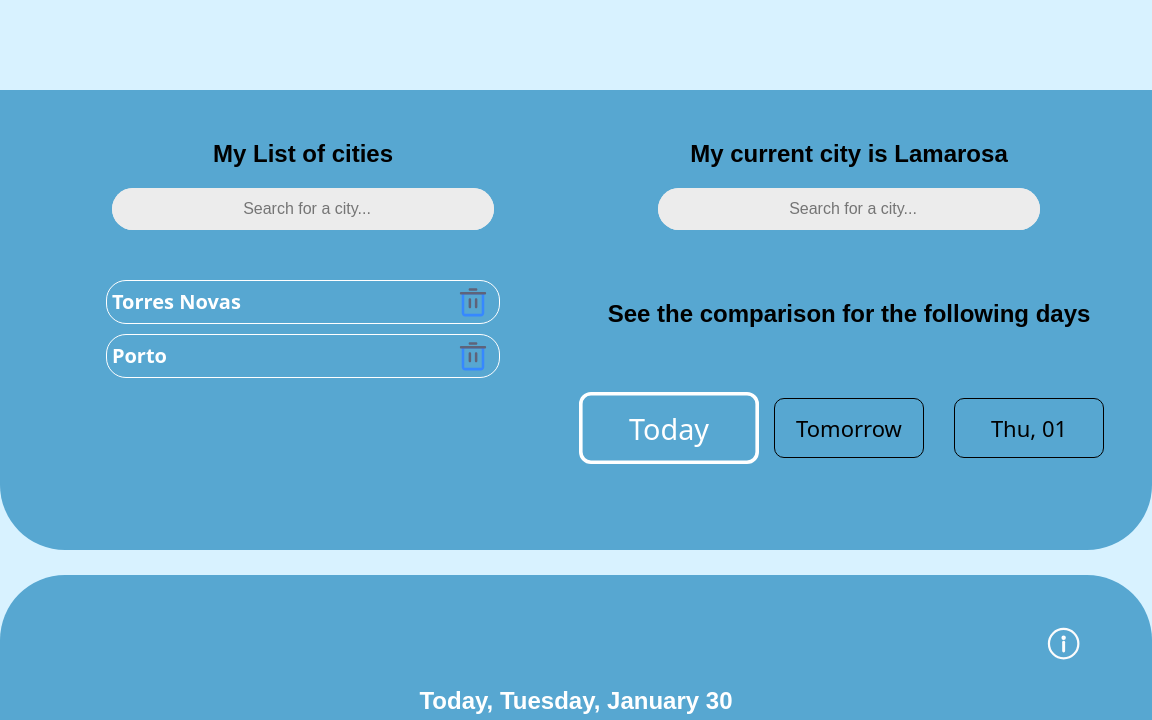
Check if the info Button opens the infoModal, and if the modal closes well
Click the button with test id "infoButton": (1071, 651) [1040,625,1102,677]
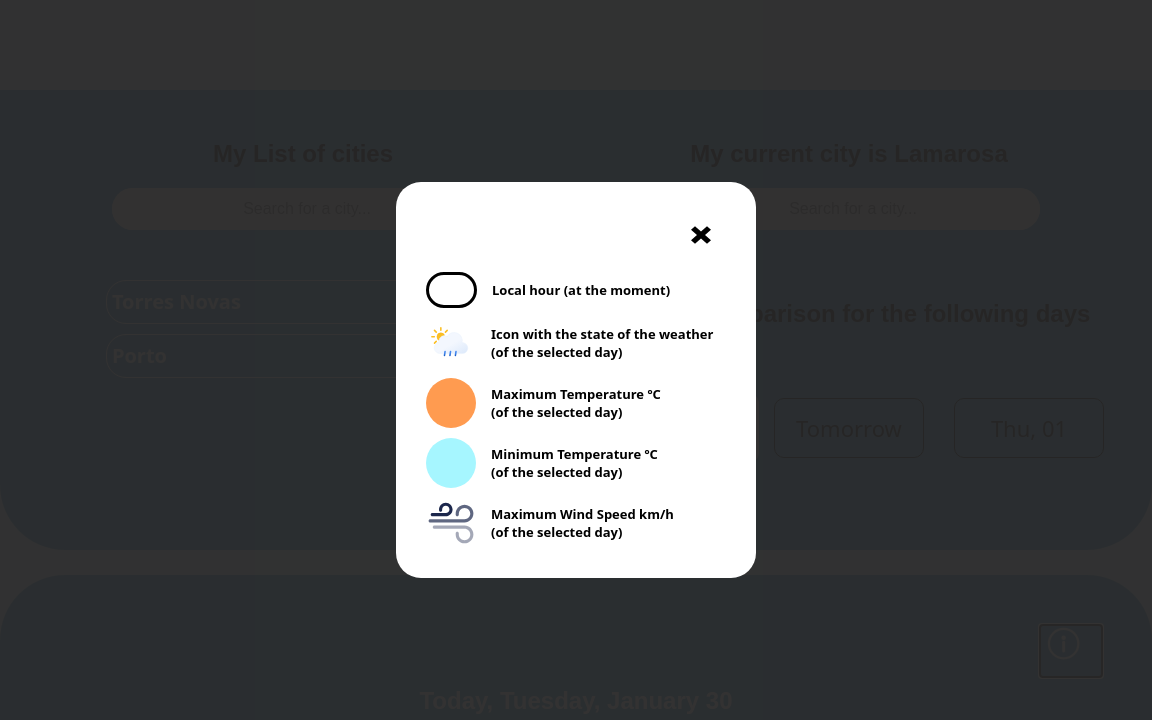
expect the element with test id "infoModal" is shown: met
expect the button with test id "closeInfoModalBtn" is shown: met
Click the button with test id "closeInfoModalBtn": (701, 237) [686,222,716,252]
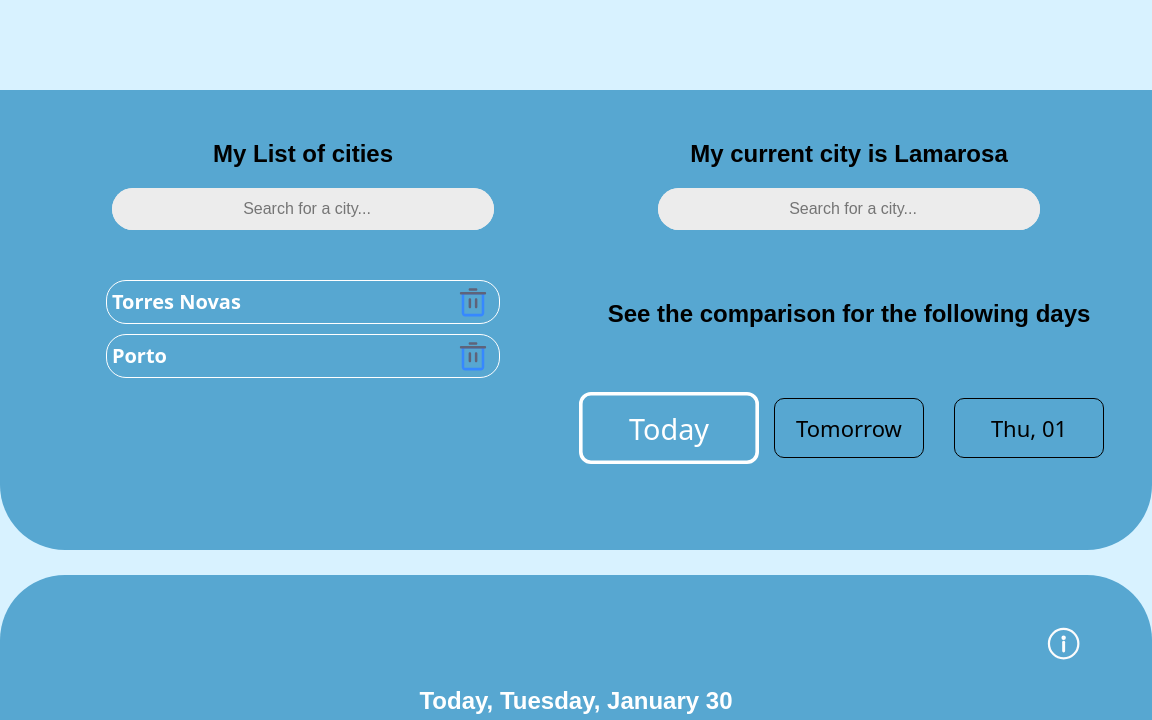
expect the element with test id "infoModal" is gone: met
